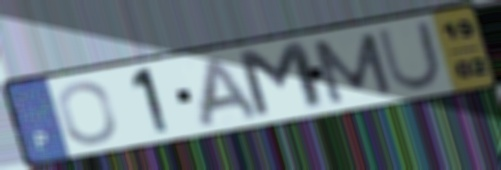1: (125, 64, 174, 138)
A: (196, 54, 265, 131)
M: (231, 37, 331, 122), (307, 29, 398, 107)
O: (55, 79, 120, 147)
U: (374, 18, 446, 94)
